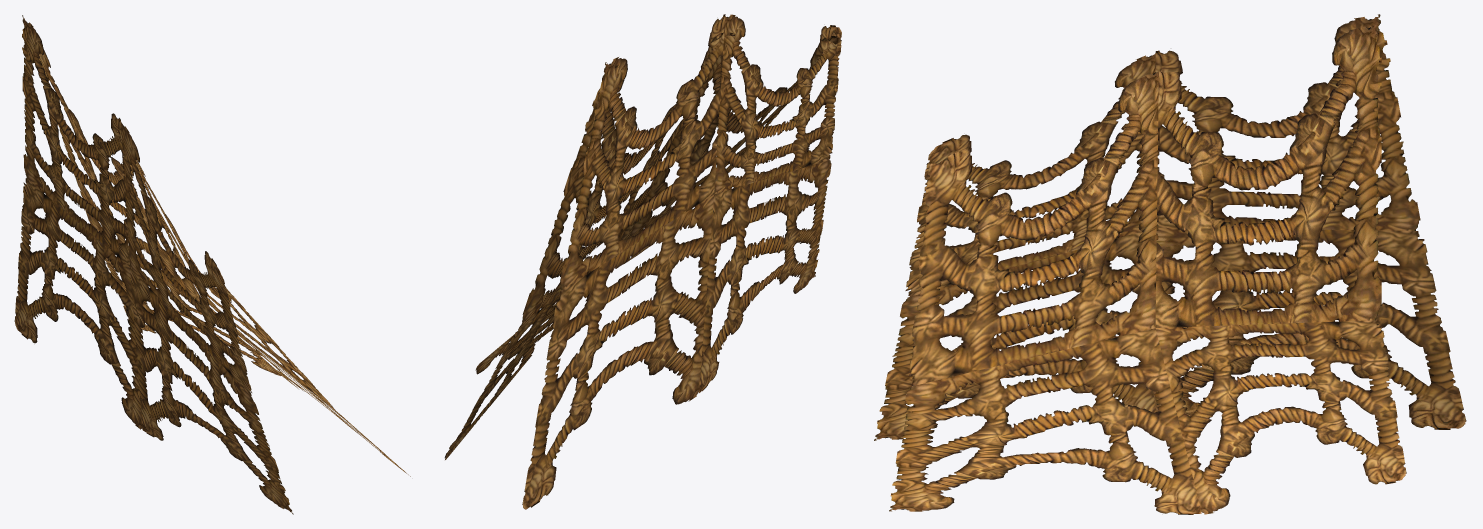
Rendered from deadminecargonet02.obj.
3 renders of one model, left to right at view 1: azimuth 30°, elevation 25°; view 2: azimuth 150°, elevation 25°; view 3: azimuth 270°, elevation 25°, orthographic. The views are drawn at different scales.
Visible parts, largest first — view 1: deadminecargonet02; view 2: deadminecargonet02; view 3: deadminecargonet02.
Part boxes in pixels (x1=…): deadminecargonet02: x1=14, y1=15, x2=410, y2=514; deadminecargonet02: x1=444, y1=14, x2=841, y2=509; deadminecargonet02: x1=874, y1=14, x2=1466, y2=514.
Bounding box in the file's own units: 1.58 × 2.89 × 3.91.
1 material, 1 textured.
